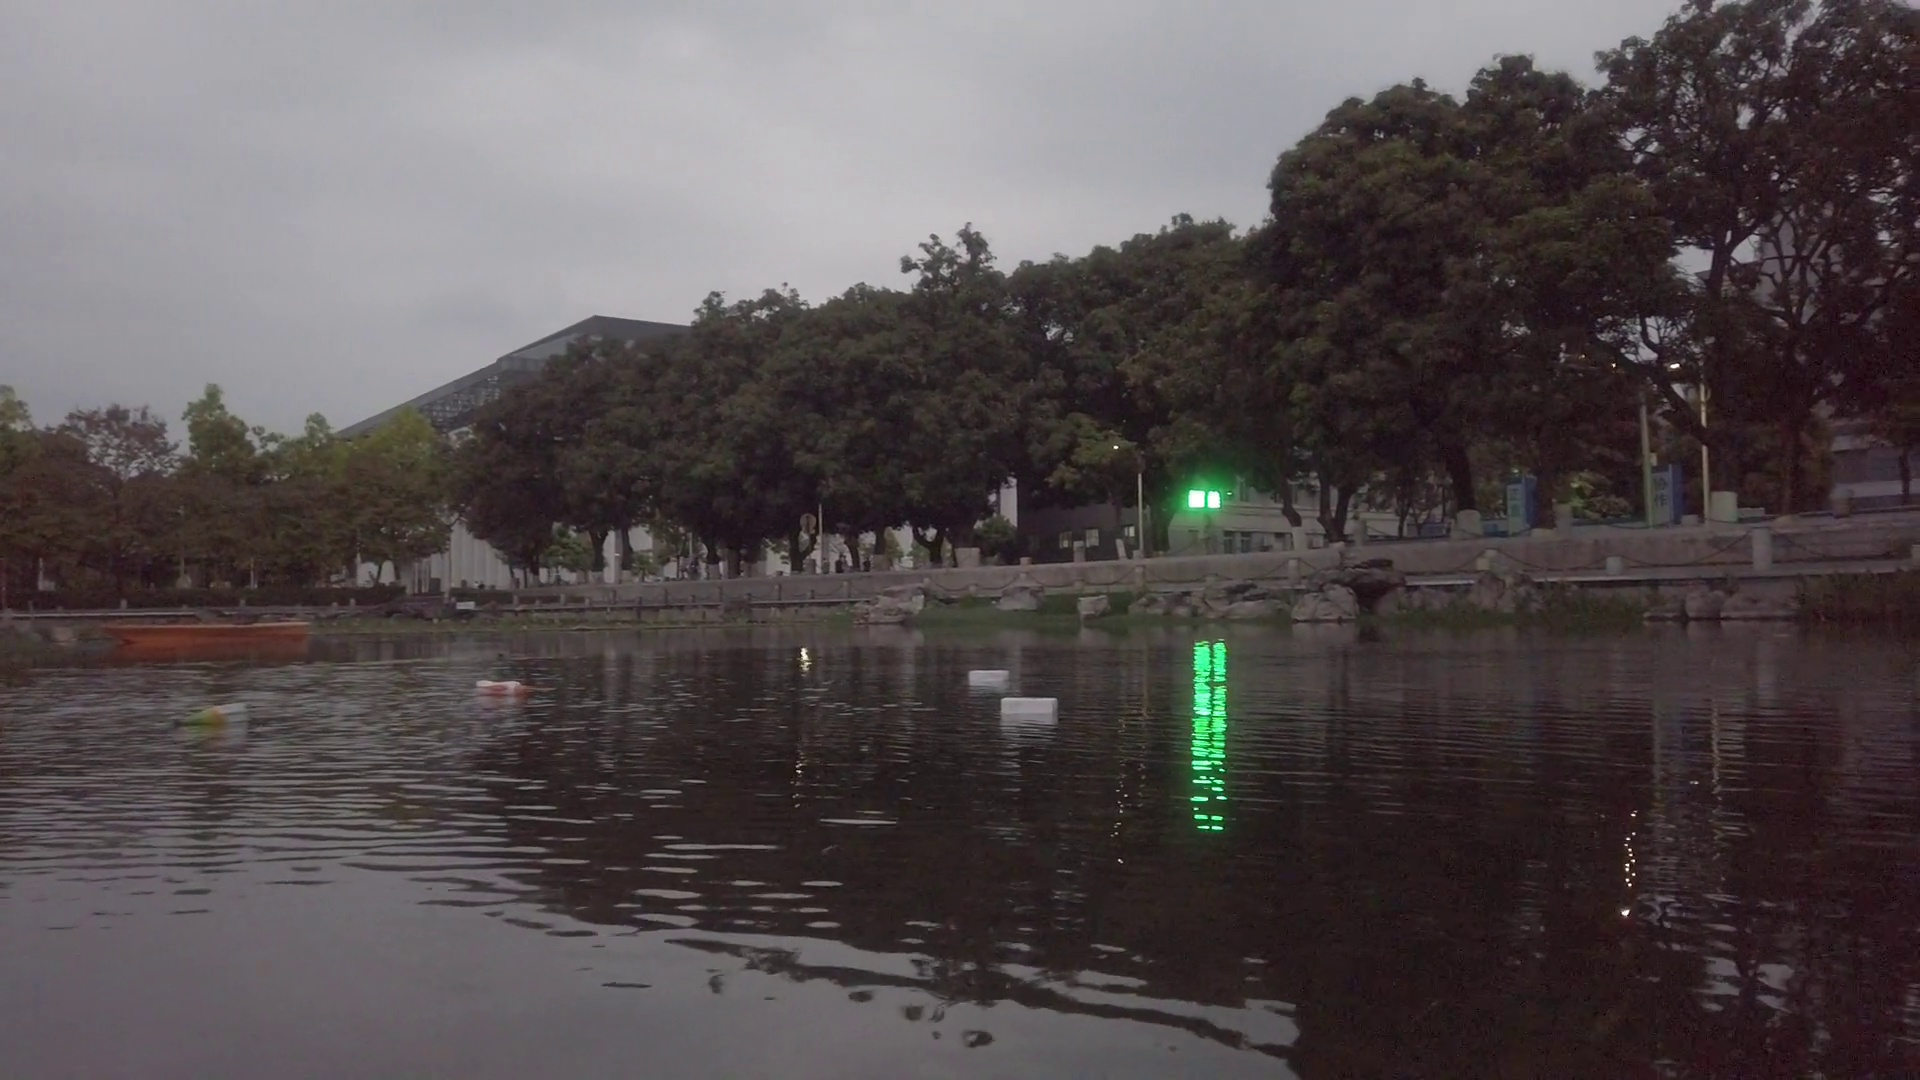bottle: (171, 704, 251, 725), (476, 680, 526, 698)
carton: (998, 695, 1059, 720), (967, 669, 1009, 687)
